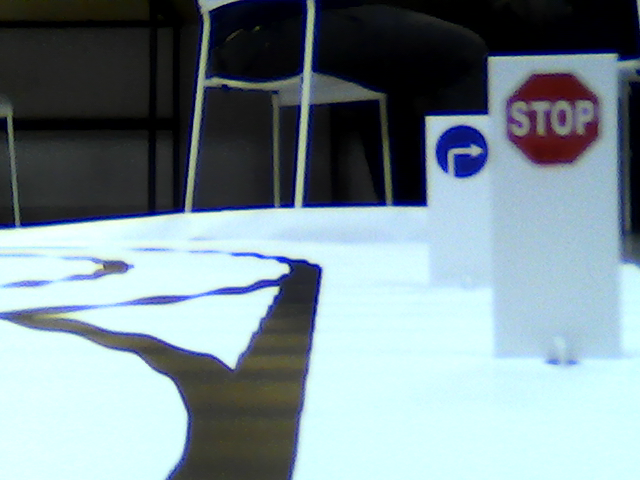Right: (432, 122, 487, 178)
Stop: (505, 69, 601, 168)
